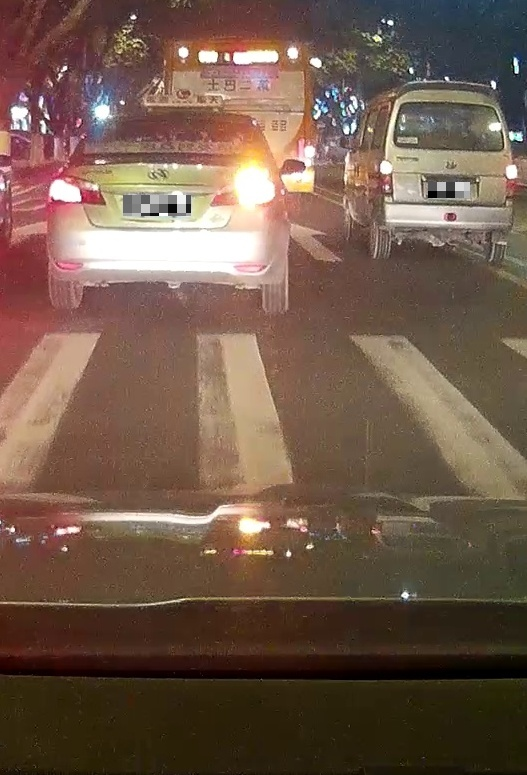L_light: (47, 174, 106, 206), (379, 160, 393, 195)
R_light: (209, 175, 276, 207), (505, 164, 516, 198)
T_light: (145, 118, 178, 125), (444, 102, 466, 107)
night-no: (377, 88, 517, 265)
night-right: (46, 107, 286, 313)
plate_1: (123, 195, 191, 216)
plate_2: (428, 182, 470, 198)
